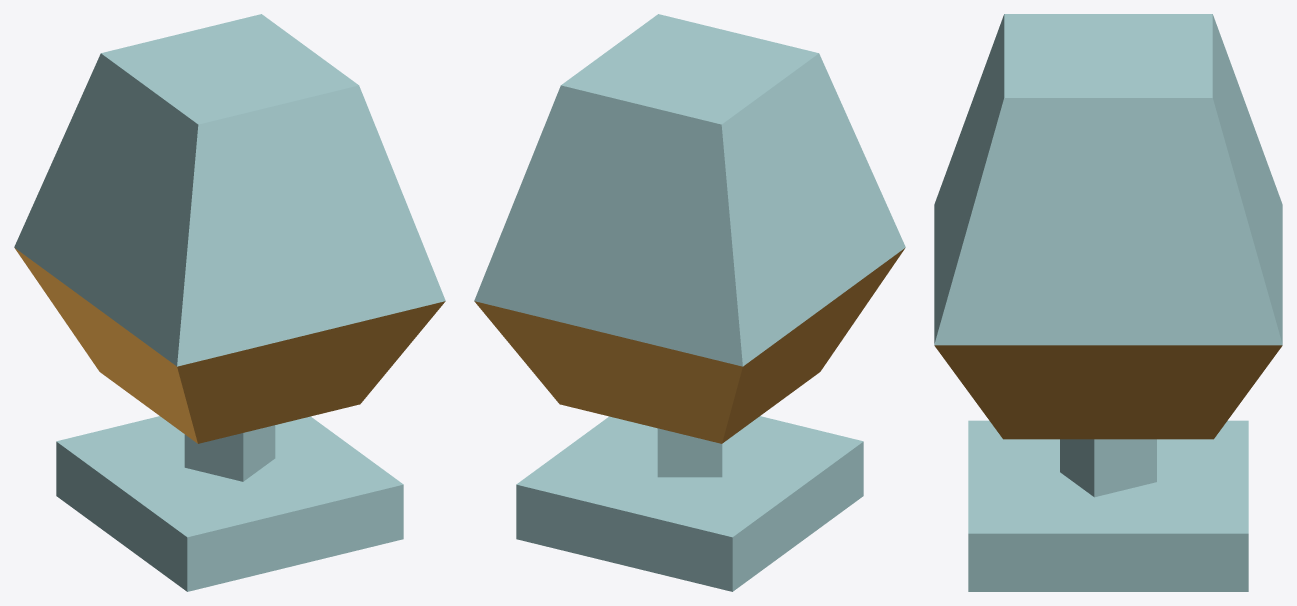
The model's file is Glas_cognac.fbx.
3 views of the same model, side by side, from view 1: azimuth 30°, elevation 25°; view 2: azimuth 150°, elevation 25°; view 3: azimuth 270°, elevation 25° (orthographic). The views are drawn at different scales.
Parts seen in each view (by area): view 1: polySurface107; view 2: polySurface107; view 3: polySurface107.
Part boxes in pixels (<box>): polySurface107: <box>14,14,445,591</box>; polySurface107: <box>474,14,905,591</box>; polySurface107: <box>934,14,1282,591</box>.
Bounding box in the file's own units: 60.79 × 96.87 × 63.83.
